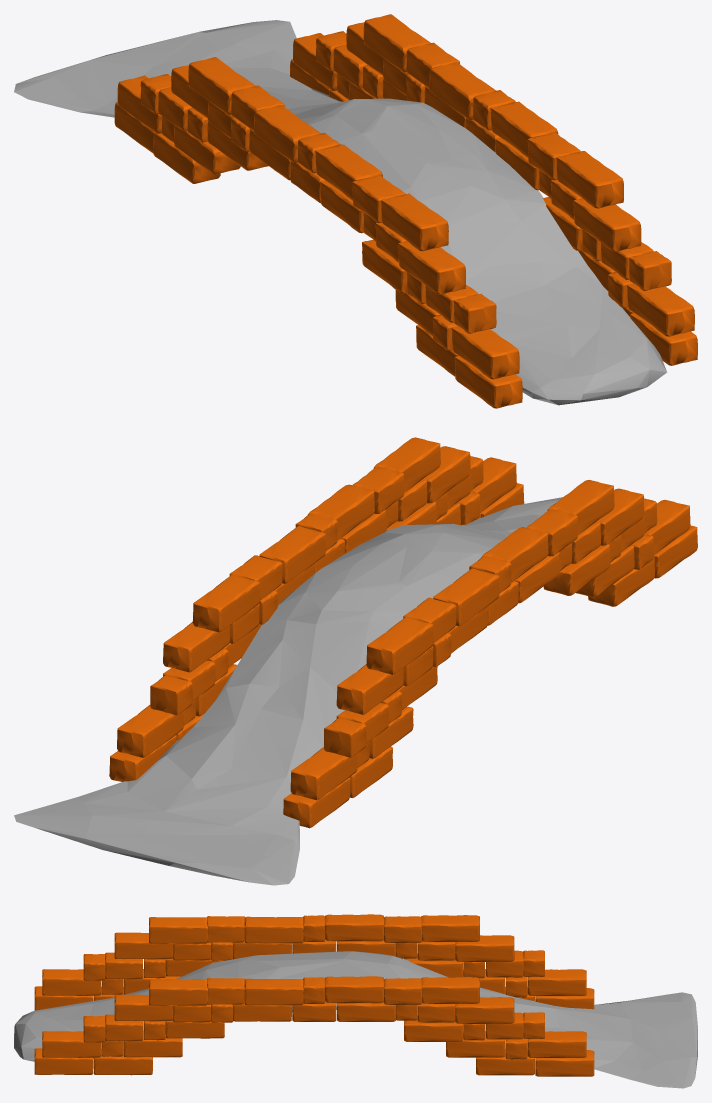
Rendered from bridgeforpainter.fbx.
3 renders of one model, top to bottom at view 1: azimuth 30°, elevation 25°; view 2: azimuth 150°, elevation 25°; view 3: azimuth 270°, elevation 25°, orthographic. The views are drawn at different scales.
Visible parts, largest first — view 1: polySurface75; view 2: polySurface75; view 3: polySurface75.
Boxes of the visible parts, x1=… form: polySurface75: x1=14, y1=14, x2=697, y2=408; polySurface75: x1=14, y1=437, x2=697, y2=885; polySurface75: x1=14, y1=914, x2=697, y2=1088.
Size of the model in its own units: 393 by 177 by 1160.
